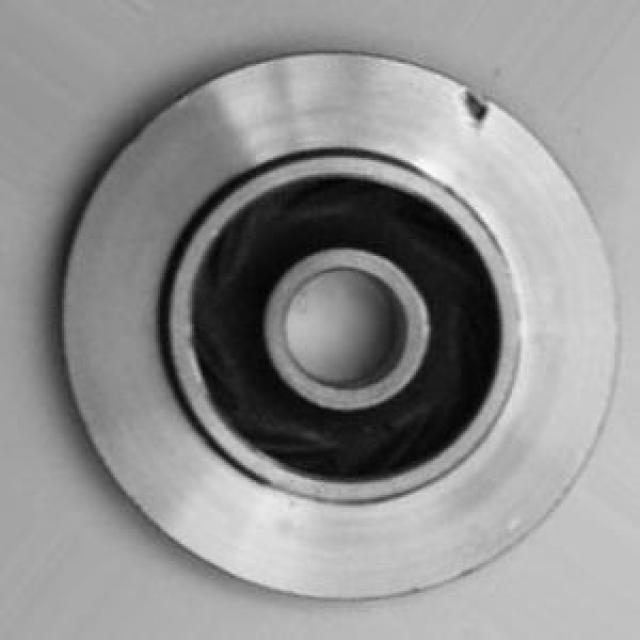Defect: (458, 80, 505, 142)
